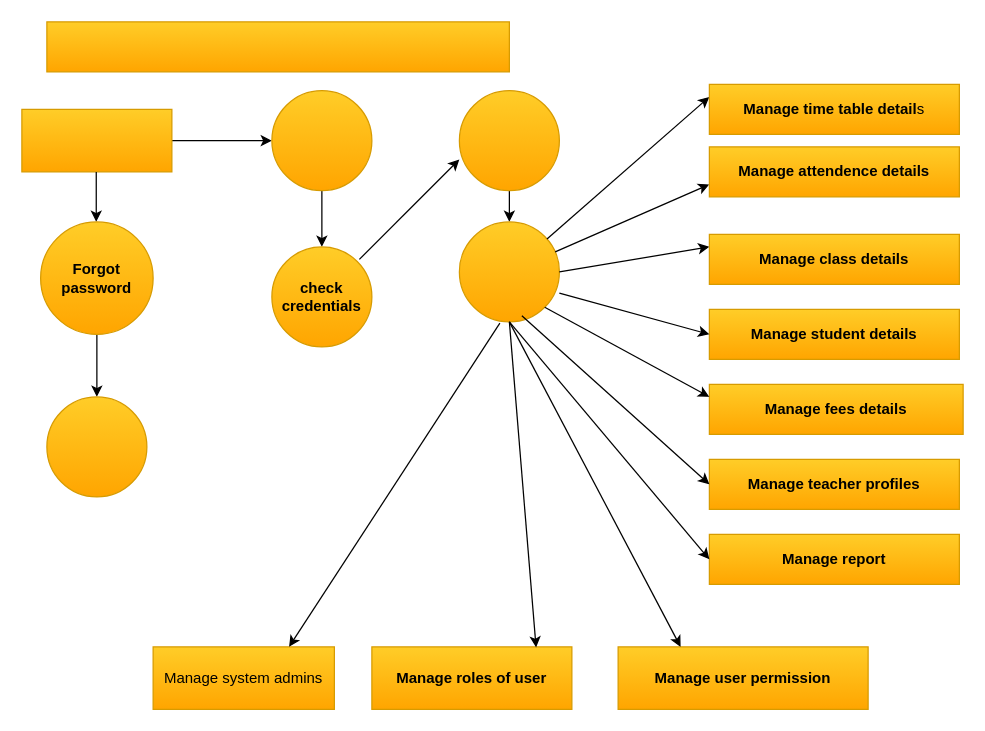
This 985x731 diagram has some shape labels left out. Each missing label, with the box of its shape:
Admin: (21, 108, 172, 172)
check roles of access: (458, 89, 559, 191)
login to system: (271, 89, 372, 191)
Manage modules: (458, 221, 559, 322)
Send email to user: (46, 396, 147, 497)
Student information system: (46, 21, 509, 72)
